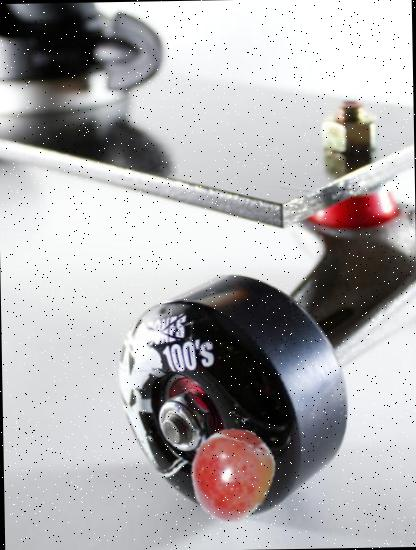Cherry: (183, 426, 280, 522)
